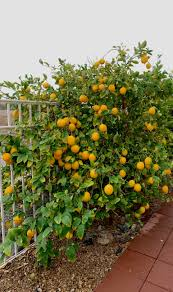orange: (102, 182, 114, 195), (78, 94, 89, 106), (98, 123, 108, 134), (108, 84, 117, 94), (67, 133, 74, 144)
